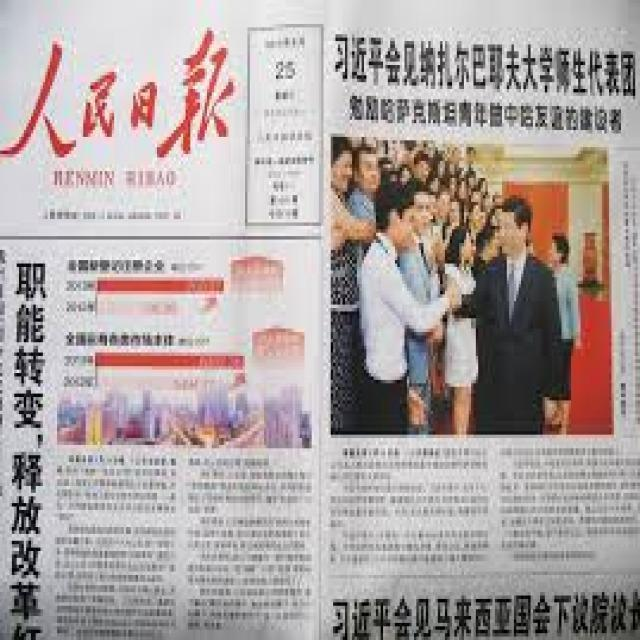cardboard paper: (0, 12, 640, 640)
